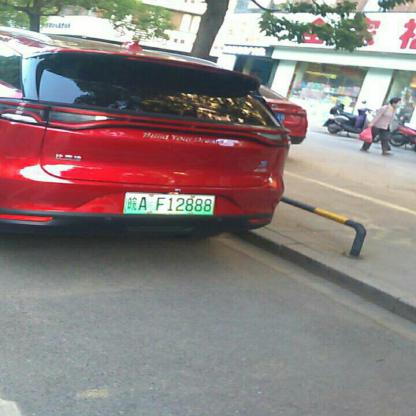lp: (124, 192, 214, 214)
